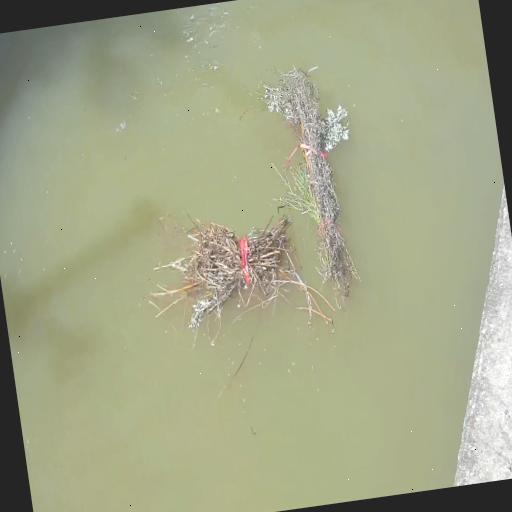twig: (269, 63, 375, 313), (166, 218, 323, 351)
